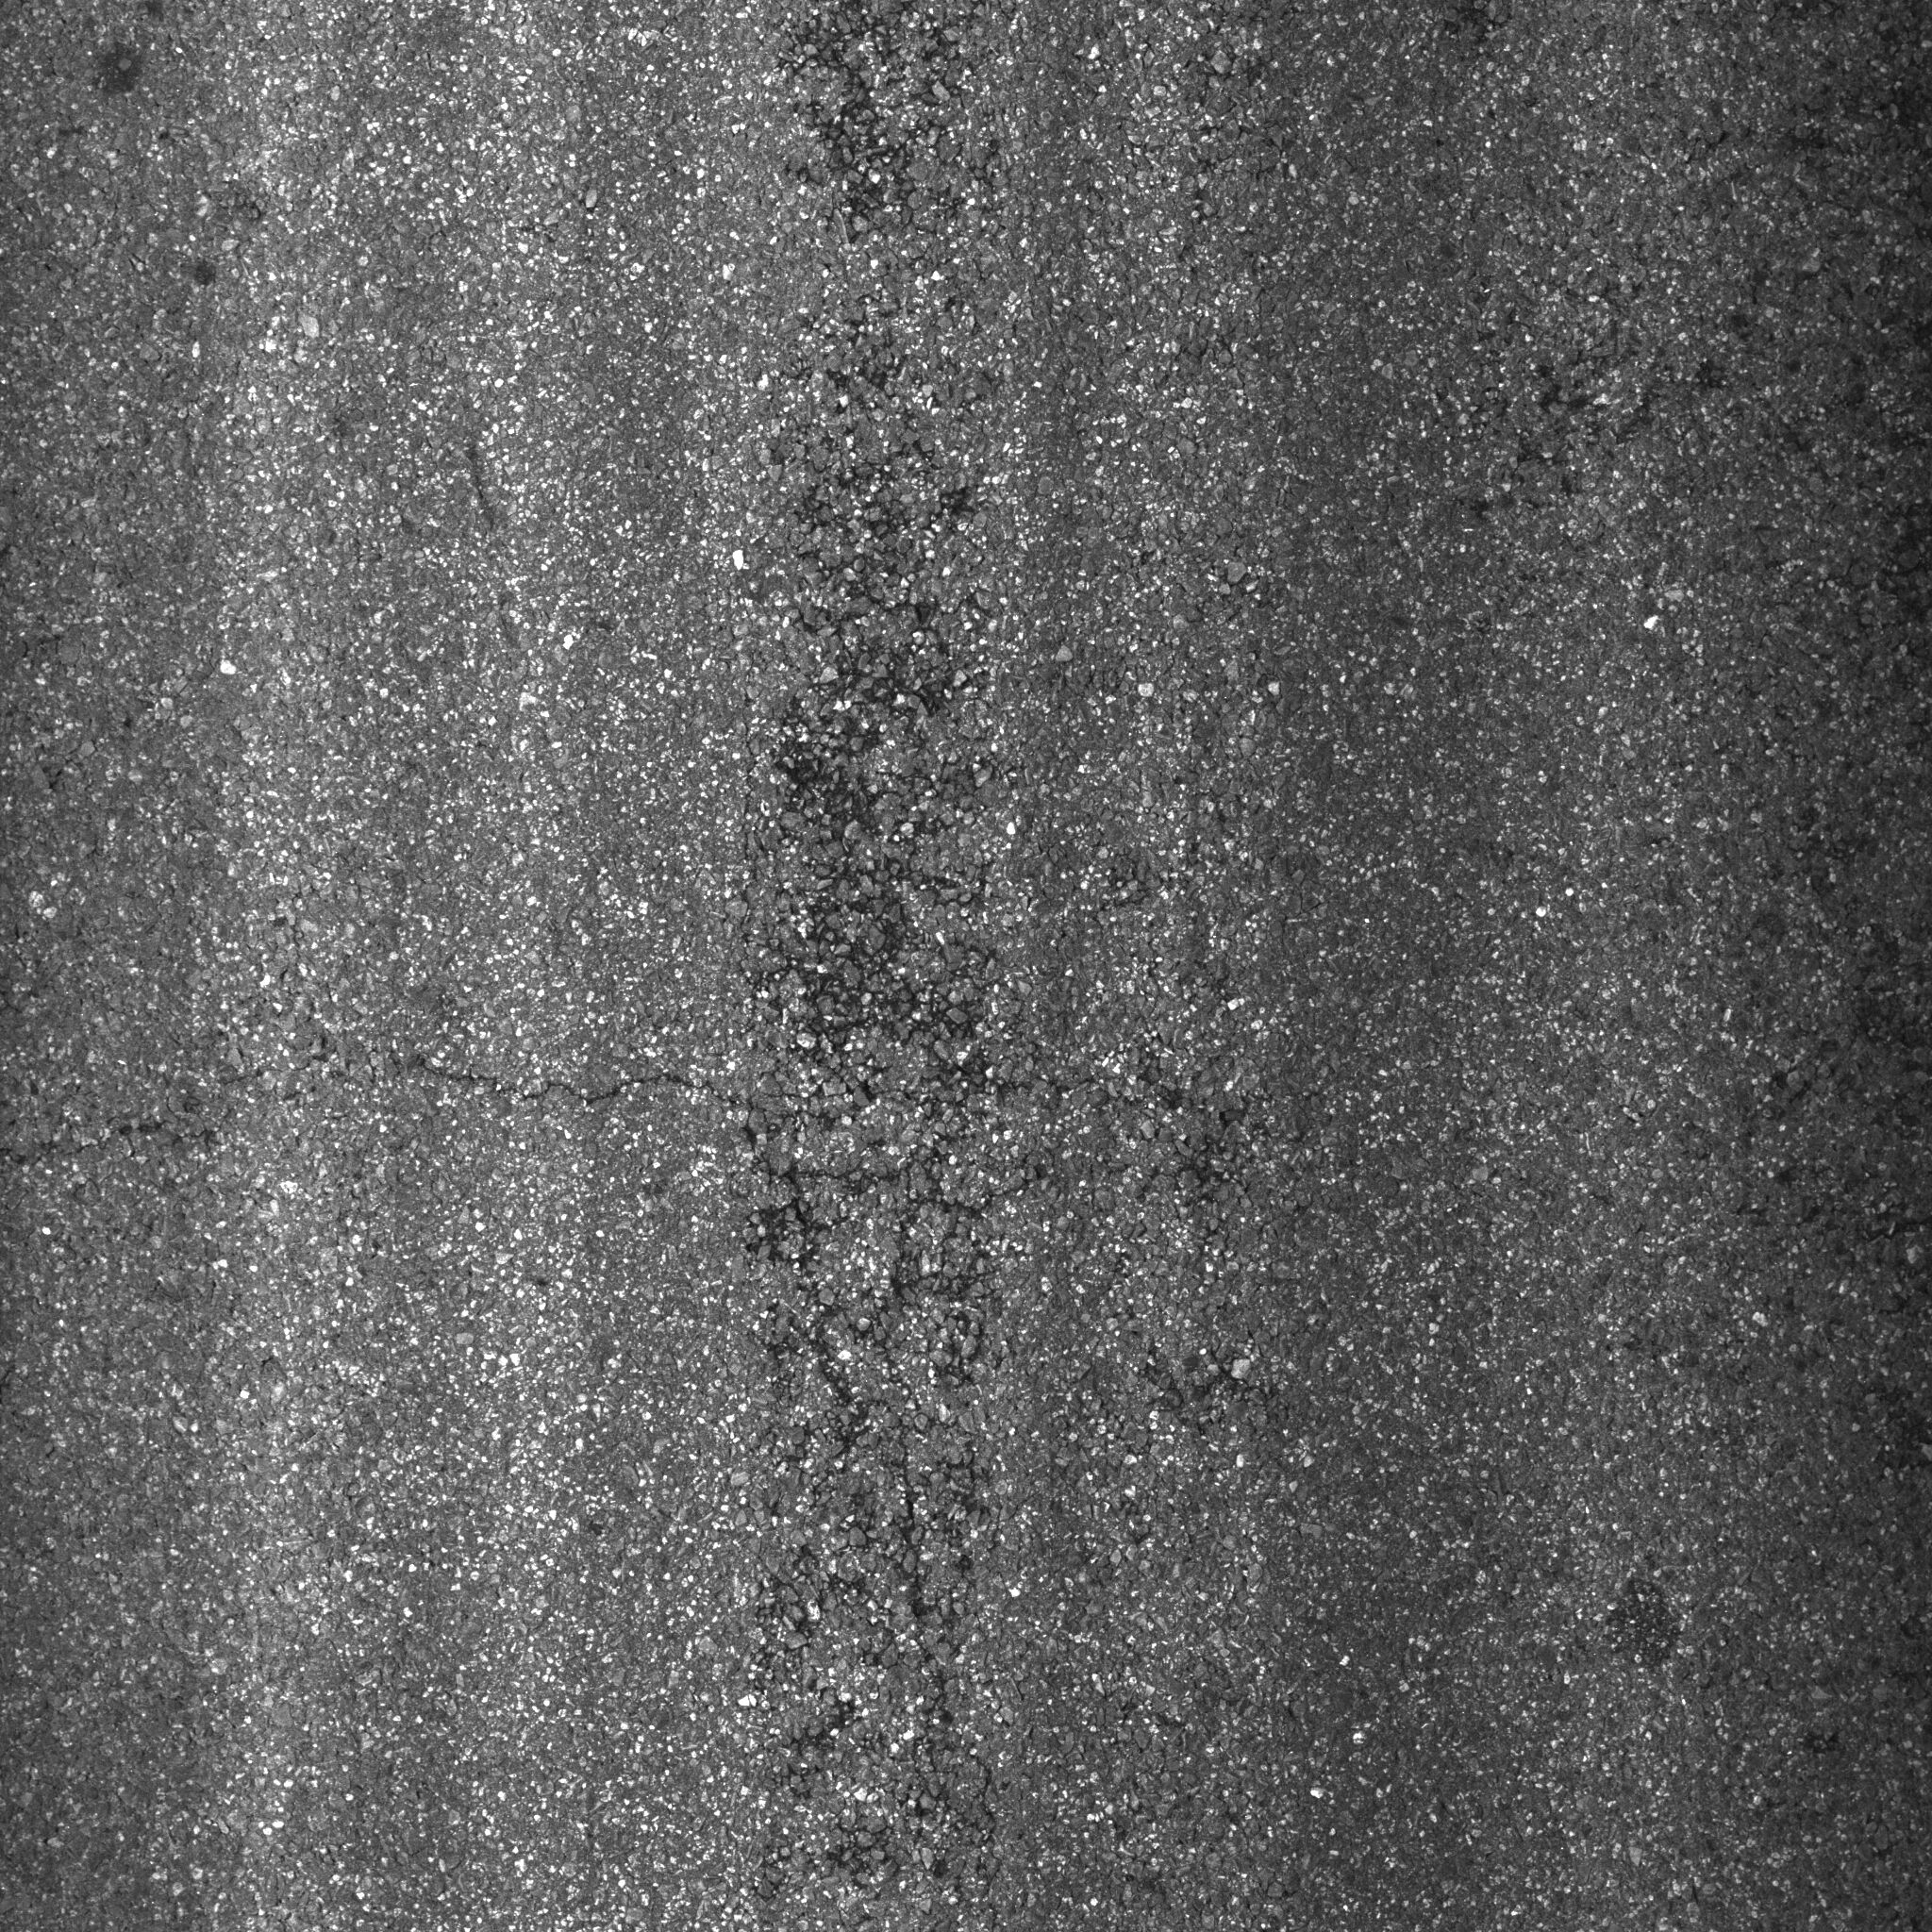transeverse: (11, 1014, 1026, 1886)
